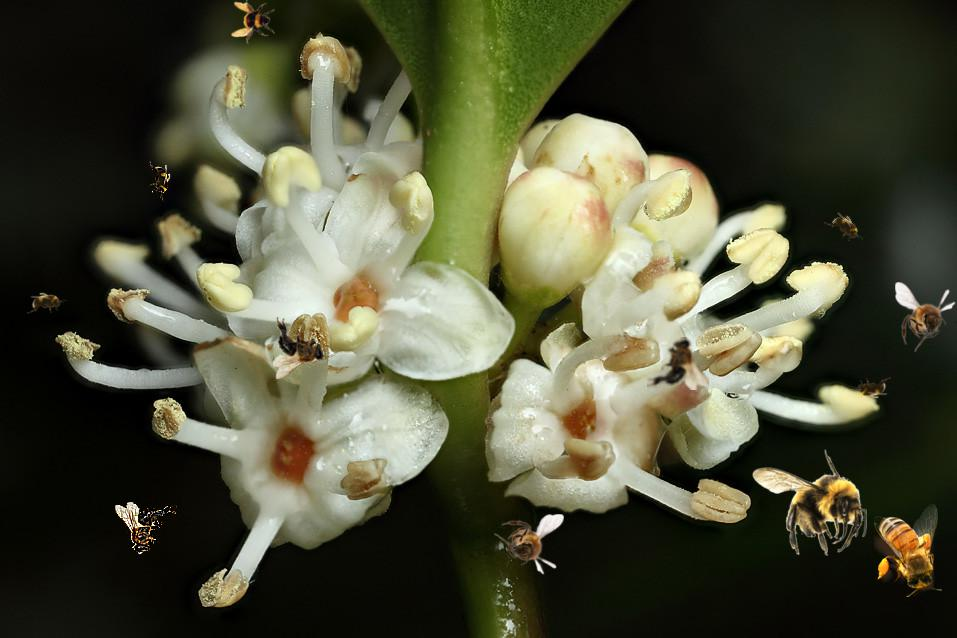Bee: (752, 449, 867, 556), (874, 504, 942, 597), (895, 282, 956, 352), (494, 514, 564, 575), (115, 502, 177, 555), (647, 337, 709, 390), (273, 317, 326, 379), (823, 206, 869, 250), (231, 0, 275, 44), (27, 292, 67, 314), (149, 161, 171, 201), (851, 377, 891, 399)
